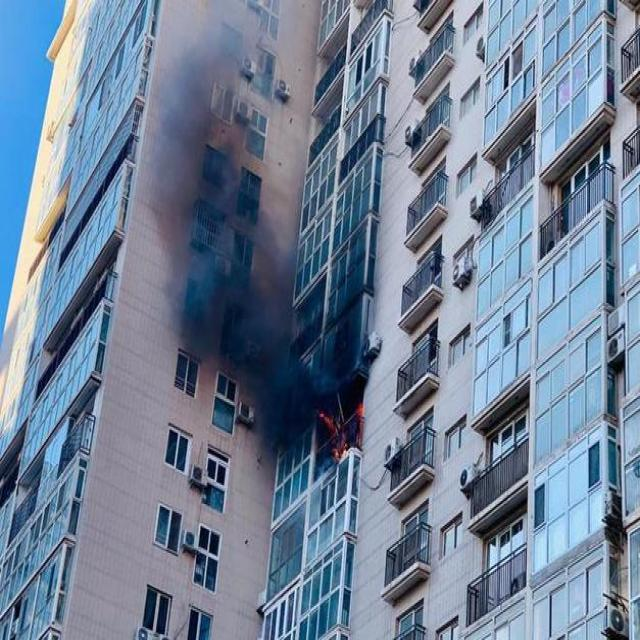Smoke: (186, 254, 316, 446)
